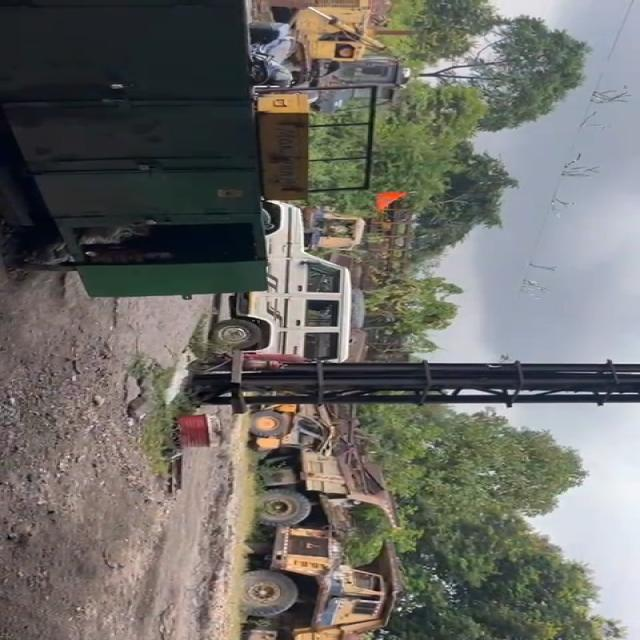light_vehicle: (274, 202, 364, 360)
